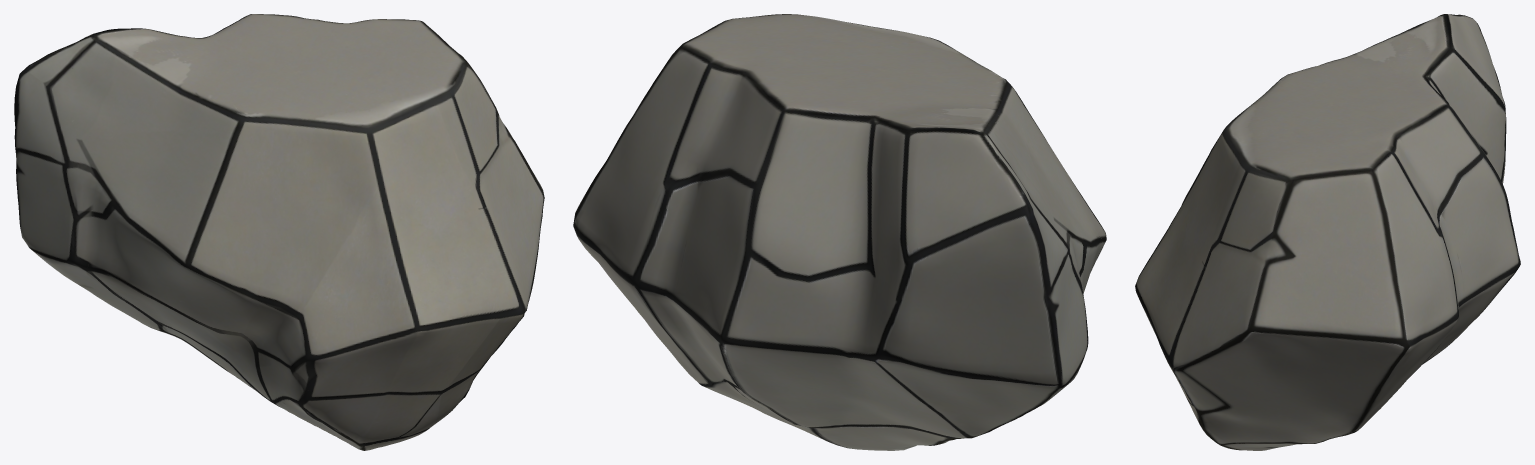
Rendered from Meteoric_Fragment.fbx.
The picture shows the model from 3 angles, left to right: view 1: azimuth 30°, elevation 25°; view 2: azimuth 150°, elevation 25°; view 3: azimuth 270°, elevation 25°; orthographic projection. The views are drawn at different scales.
Parts seen in each view (by area): view 1: Mesh0; view 2: Mesh0; view 3: Mesh0.
Part boxes in pixels (x1=…): Mesh0: x1=14, y1=14, x2=544, y2=450; Mesh0: x1=573, y1=14, x2=1106, y2=450; Mesh0: x1=1135, y1=14, x2=1520, y2=450.
Bounding box in the file's own units: 190 × 160 × 158.
1 material, 1 textured.
